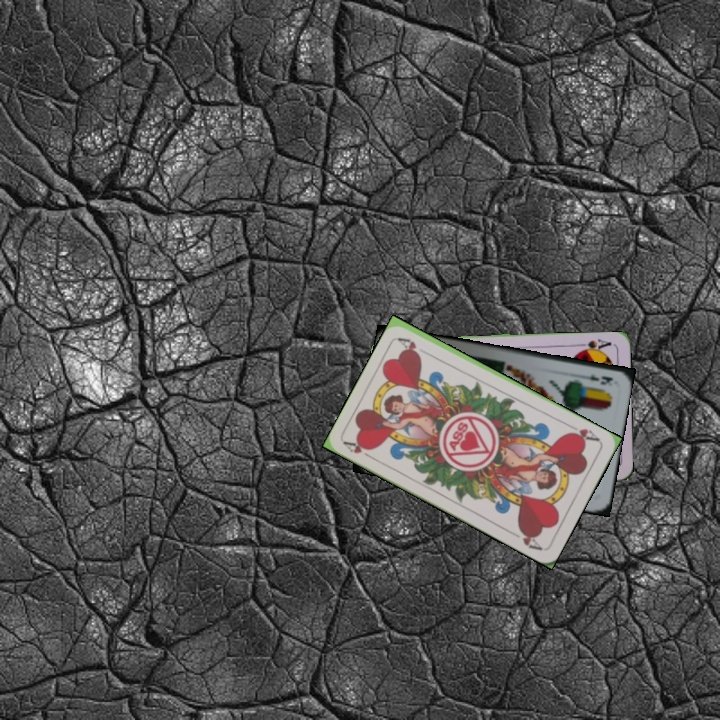EK: (576, 369, 616, 388)
HA: (340, 437, 378, 463), (564, 421, 603, 445)
SA: (574, 335, 614, 355)
